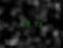eight: (24, 19, 29, 27)
seven: (30, 19, 35, 28)
six: (36, 20, 41, 28)
two: (18, 18, 23, 27)
